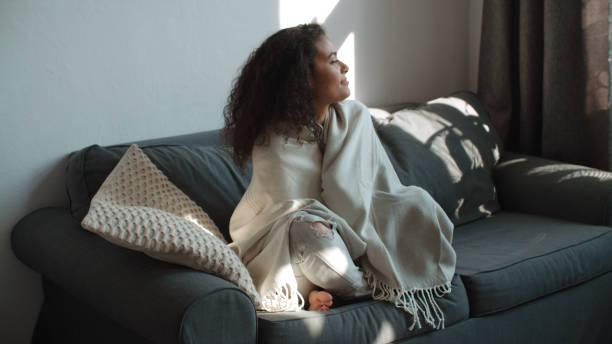blanket: (228, 100, 458, 331)
trousers: (289, 211, 381, 314)
